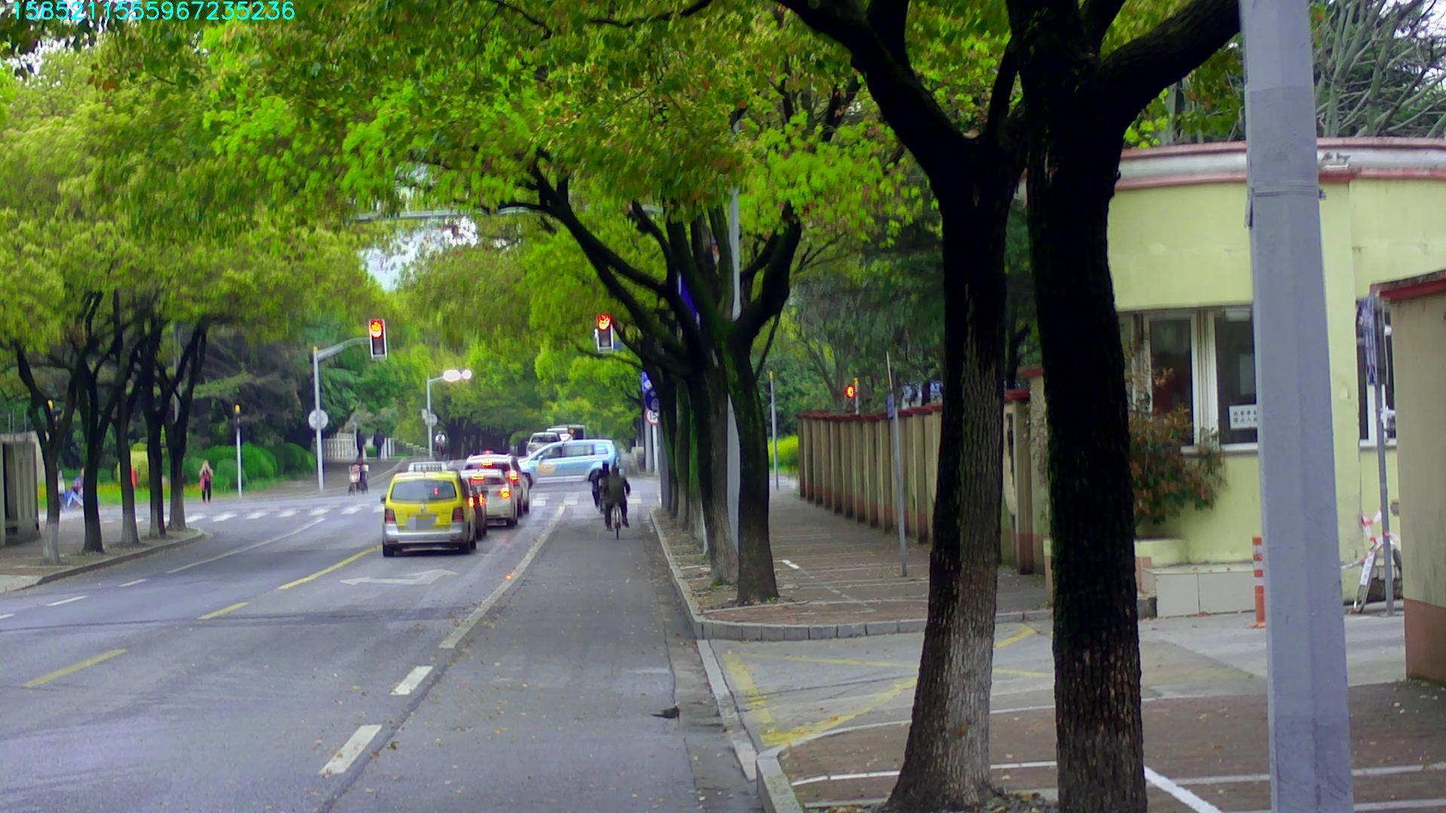red: (368, 318, 386, 361), (595, 311, 612, 352)
